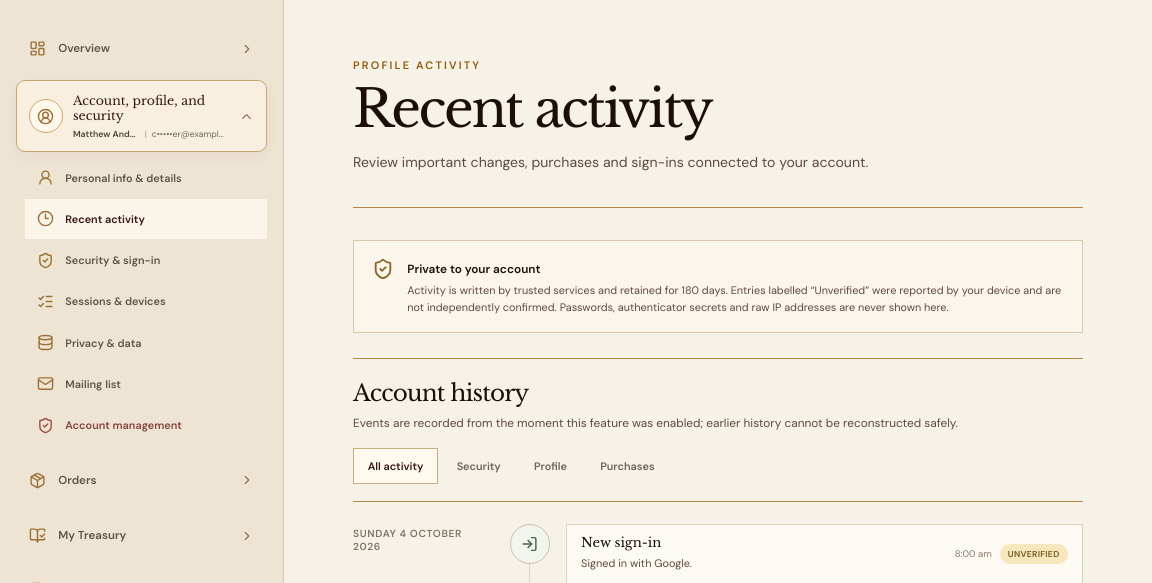
Test: routed Account Centre › presents private, filterable activity with an approximate login map
The image size is (1152, 583).
Expected: the heading "New sign-in" is shown, [581,534,661,551]
What coordinates should you click on to do the following:
click the tab "Purchases"
I would click on:
 (627, 466)
Its box is [586,448,669,484].
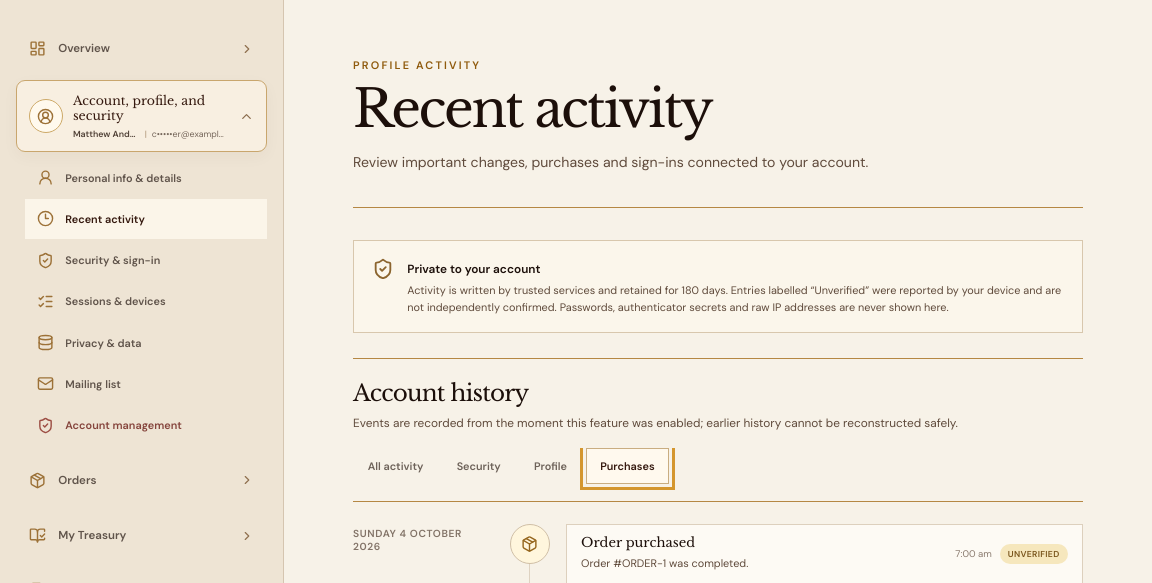
Expected: the heading "Order purchased" is shown, [581,534,695,551]
Now the heading "New sign-in" is gone
